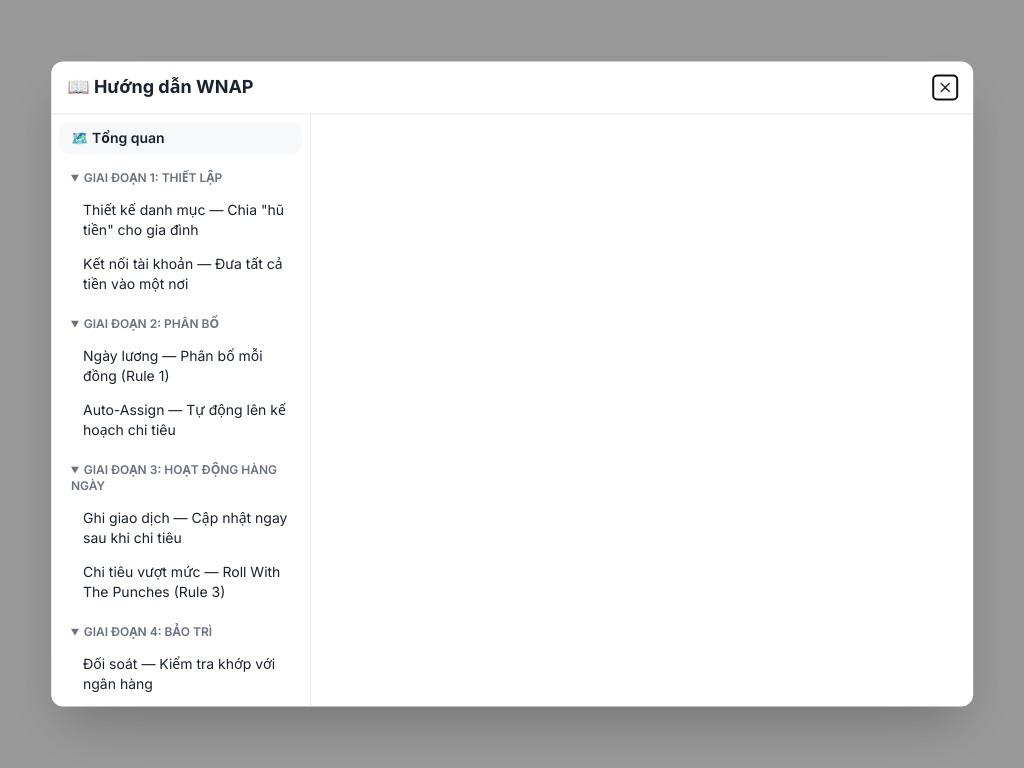
Scenario: GuideModal › opens with overview selected, switches content when a use case is clicked
# click "Ngày lương — Phân bổ mỗi đồng (Rule 1)" in sidebar
What coordinates should you click on to do the following:
click the button "Ngày lương — Phân bổ mỗi đồng (Rule 1)"
I would click on:
 (181, 366)
Its box is [59, 340, 302, 392].
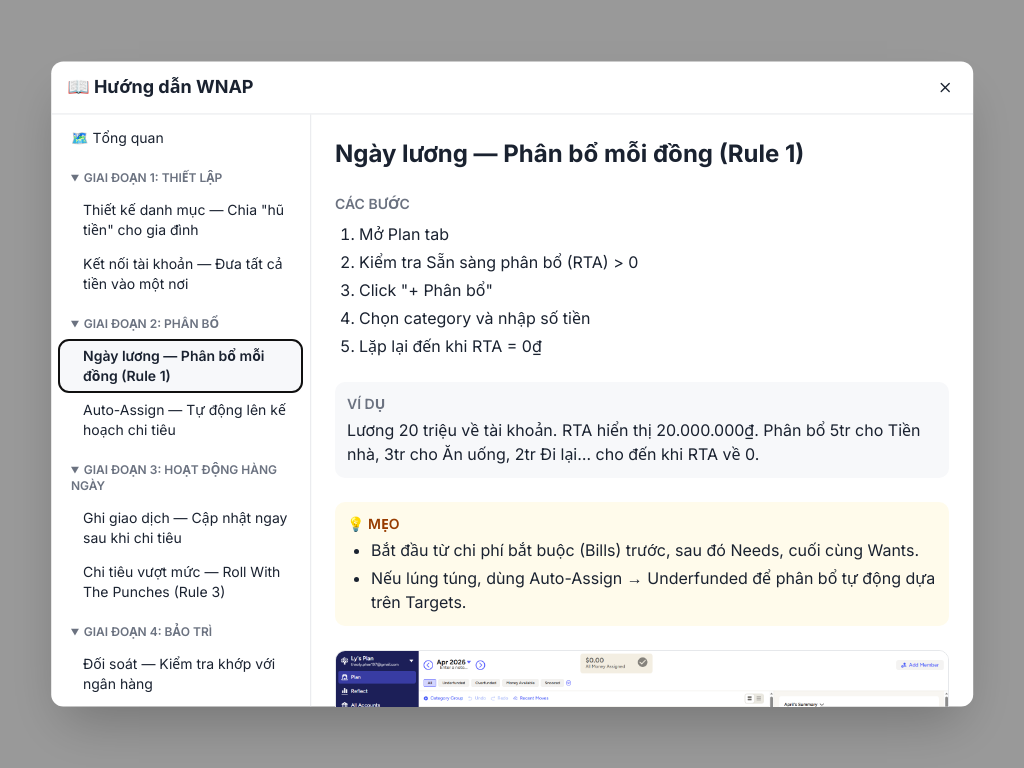
Check: the heading "Ngày lương — Phân bổ mỗi đồng (Rule 1)" is shown, box [335, 139, 805, 168]
